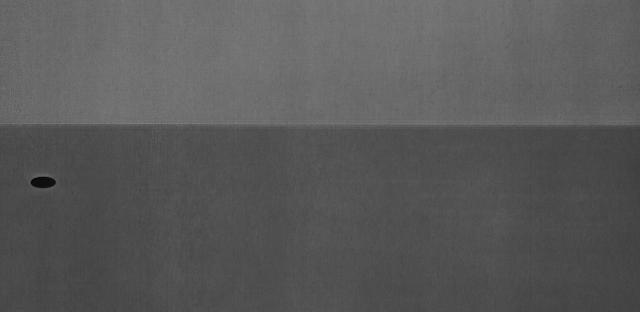punching_hole: (24, 170, 68, 192)
welding_line: (0, 114, 640, 136)
